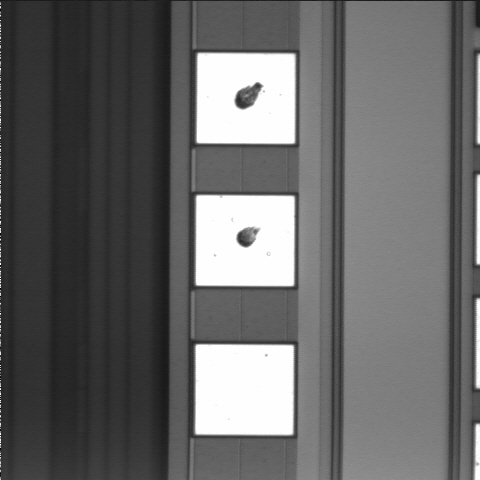pad: (197, 53, 295, 144), (196, 195, 294, 286), (195, 345, 294, 435)
